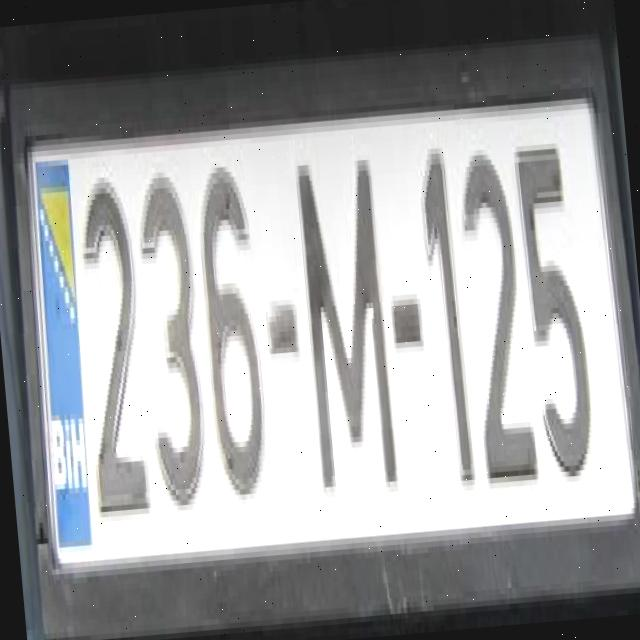Autre: (24, 73, 635, 572)
